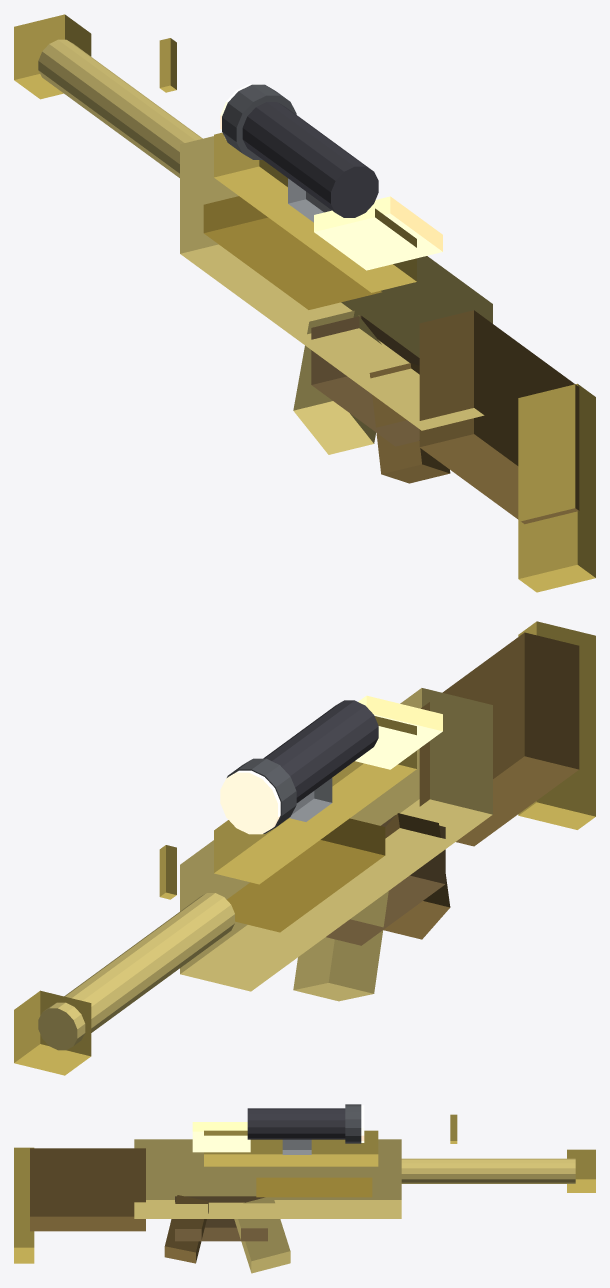
Rendered from gold.glb.
3 views of the same model, one above another, from view 1: azimuth 30°, elevation 25°; view 2: azimuth 150°, elevation 25°; view 3: azimuth 270°, elevation 25° (orthographic). The views are drawn at different scales.
Parts seen in each view (by area): view 1: stock, receiver, barrel, scope, crescent-glow; view 2: receiver, stock, barrel, scope, crescent-glow, scope-glass; view 3: receiver, stock, barrel, scope, crescent-glow.
Part boxes in pixels (x1,y1,x2,y2): stock: (293, 310, 595, 592); receiver: (180, 132, 492, 446); barrel: (14, 14, 227, 194); scope: (222, 84, 378, 222); crescent-glow: (314, 196, 442, 270); receiver: (180, 688, 492, 991); stock: (293, 621, 595, 1001); barrel: (14, 845, 234, 1075); scope: (227, 700, 378, 833); crescent-glow: (355, 695, 442, 769); scope-glass: (220, 770, 280, 834); receiver: (134, 1130, 401, 1241); stock: (14, 1147, 290, 1273); barrel: (401, 1114, 595, 1192); scope: (247, 1104, 361, 1154); crescent-glow: (192, 1122, 250, 1152).
Bounding box in the file's own units: 0.084 × 0.3063 × 1.
